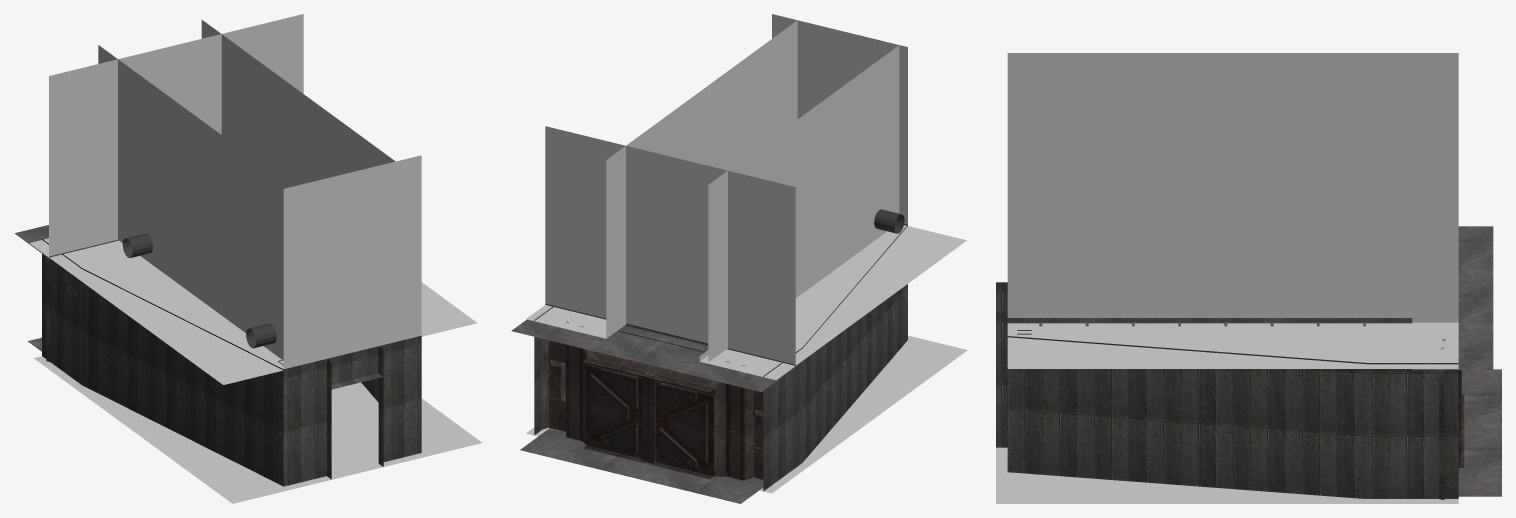
File: Room1_Endroom_HCZ.fbx
The picture shows the model from 3 angles, left to right: view 1: azimuth 30°, elevation 25°; view 2: azimuth 150°, elevation 25°; view 3: azimuth 270°, elevation 25°; orthographic projection. The views are drawn at different scales.
Visible parts, largest first — view 1: Room1_Endroom_HCZ; view 2: Room1_Endroom_HCZ; view 3: Room1_Endroom_HCZ.
Part boxes in pixels (x1,y1,x2,y2): Room1_Endroom_HCZ: (14,14,482,503); Room1_Endroom_HCZ: (511,14,967,503); Room1_Endroom_HCZ: (996,53,1501,503).
Size of the model in its own units: 9.44 by 10.57 by 14.
